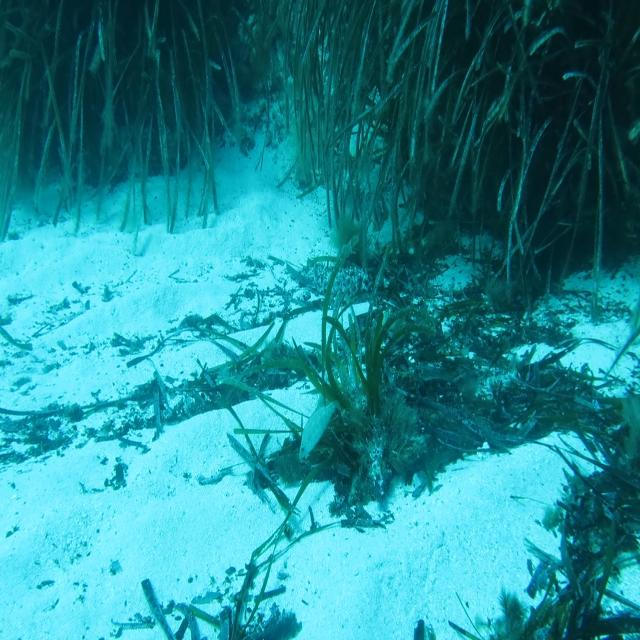SA: (296, 396, 343, 460)
vegetation: (286, 0, 639, 224), (0, 2, 265, 176), (200, 226, 458, 374), (459, 226, 628, 422), (508, 516, 618, 640)
